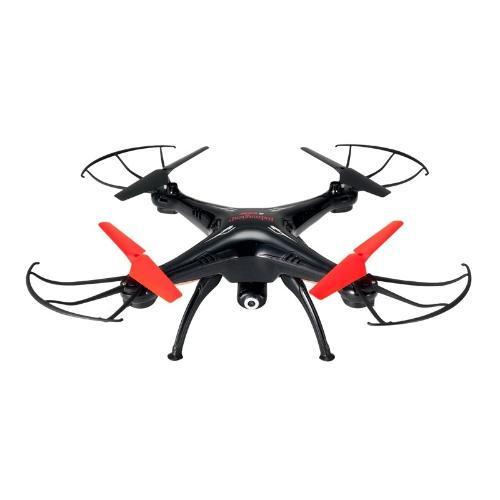drone: (9, 151, 489, 346)
